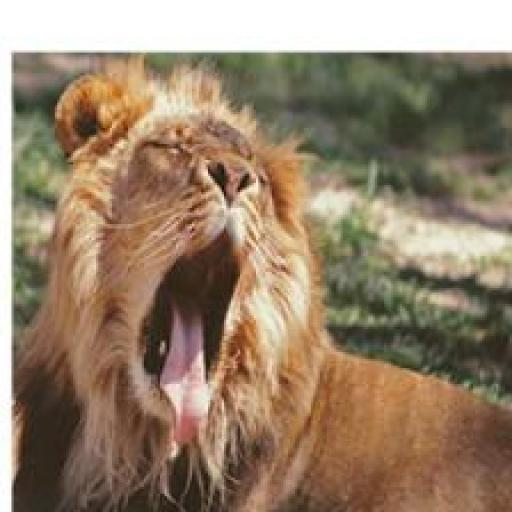lion: (0, 57, 336, 511)
